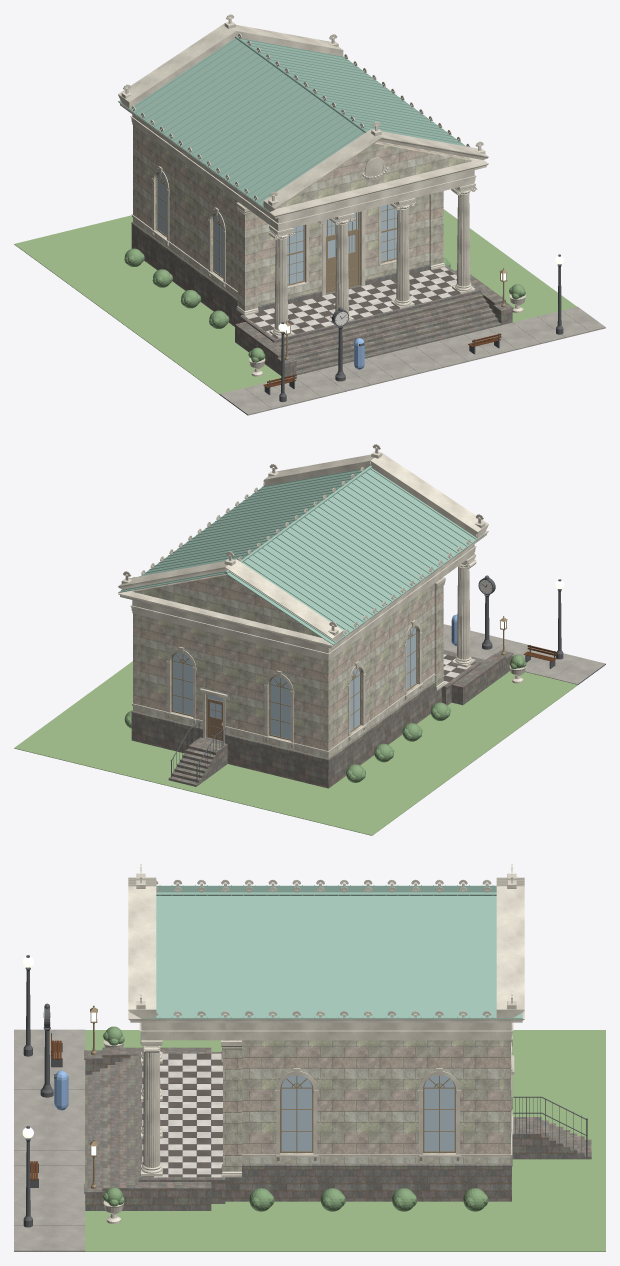
File: building_assembled.glb
3 views of the same model, one above another, from view 1: azimuth 30°, elevation 25°; view 2: azimuth 150°, elevation 25°; view 3: azimuth 270°, elevation 25° (orthographic). The views are drawn at different scales.
Visible parts, largest first — view 1: geometry_348, geometry_204, geometry_346, geometry_158, geometry_349, geometry_159, geometry_162, geometry_160, geometry_181, geometry_173, geometry_189, geometry_177 (+40 smaller); view 2: geometry_348, geometry_350, geometry_349, geometry_160, geometry_161, geometry_71, geometry_162, geometry_181, geometry_177, geometry_173, geometry_189, geometry_169 (+51 smaller); view 3: geometry_349, geometry_346, geometry_204, geometry_350, geometry_167, geometry_187, geometry_171, geometry_175, geometry_183, geometry_179, geometry_26, geometry_34 (+40 smaller).
Boxes of the visible parts, bbox=[...] form: geometry_348: bbox=[14, 225, 281, 394]; geometry_204: bbox=[235, 265, 513, 376]; geometry_346: bbox=[220, 306, 605, 415]; geometry_158: bbox=[236, 157, 488, 231]; geometry_349: bbox=[443, 209, 576, 322]; geometry_159: bbox=[277, 141, 471, 208]; geometry_162: bbox=[118, 14, 343, 108]; geometry_160: bbox=[263, 121, 488, 211]; geometry_181: bbox=[193, 86, 318, 170]; geometry_173: bbox=[156, 58, 280, 142]; geometry_189: bbox=[231, 113, 355, 197]; geometry_177: bbox=[175, 72, 299, 156]; geometry_348: bbox=[296, 671, 577, 835]; geometry_350: bbox=[90, 739, 332, 816]; geometry_349: bbox=[14, 661, 132, 766]; geometry_160: bbox=[263, 444, 488, 538]; geometry_161: bbox=[133, 574, 321, 637]; geometry_71: bbox=[230, 637, 263, 742]; geometry_162: bbox=[118, 551, 343, 641]; geometry_181: bbox=[302, 505, 427, 589]; geometry_177: bbox=[283, 519, 408, 603]; geometry_173: bbox=[265, 532, 389, 617]; geometry_189: bbox=[340, 477, 464, 562]; geometry_169: bbox=[246, 546, 370, 630]; geometry_349: bbox=[85, 1204, 605, 1251]; geometry_346: bbox=[14, 1029, 85, 1251]; geometry_204: bbox=[84, 1047, 225, 1210]; geometry_350: bbox=[511, 1077, 605, 1203]; geometry_167: bbox=[427, 895, 475, 1018]; geometry_187: bbox=[189, 895, 237, 1018]; geometry_171: bbox=[380, 895, 427, 1018]; geometry_175: bbox=[332, 895, 379, 1018]; geometry_183: bbox=[237, 895, 284, 1018]; geometry_179: bbox=[285, 895, 332, 1018]; geometry_26: bbox=[368, 1040, 415, 1163]; geometry_34: bbox=[320, 1040, 367, 1163].
Bounding box in the file's own units: 22 × 12.57 × 24.89.
25 materials, 8 textured.
